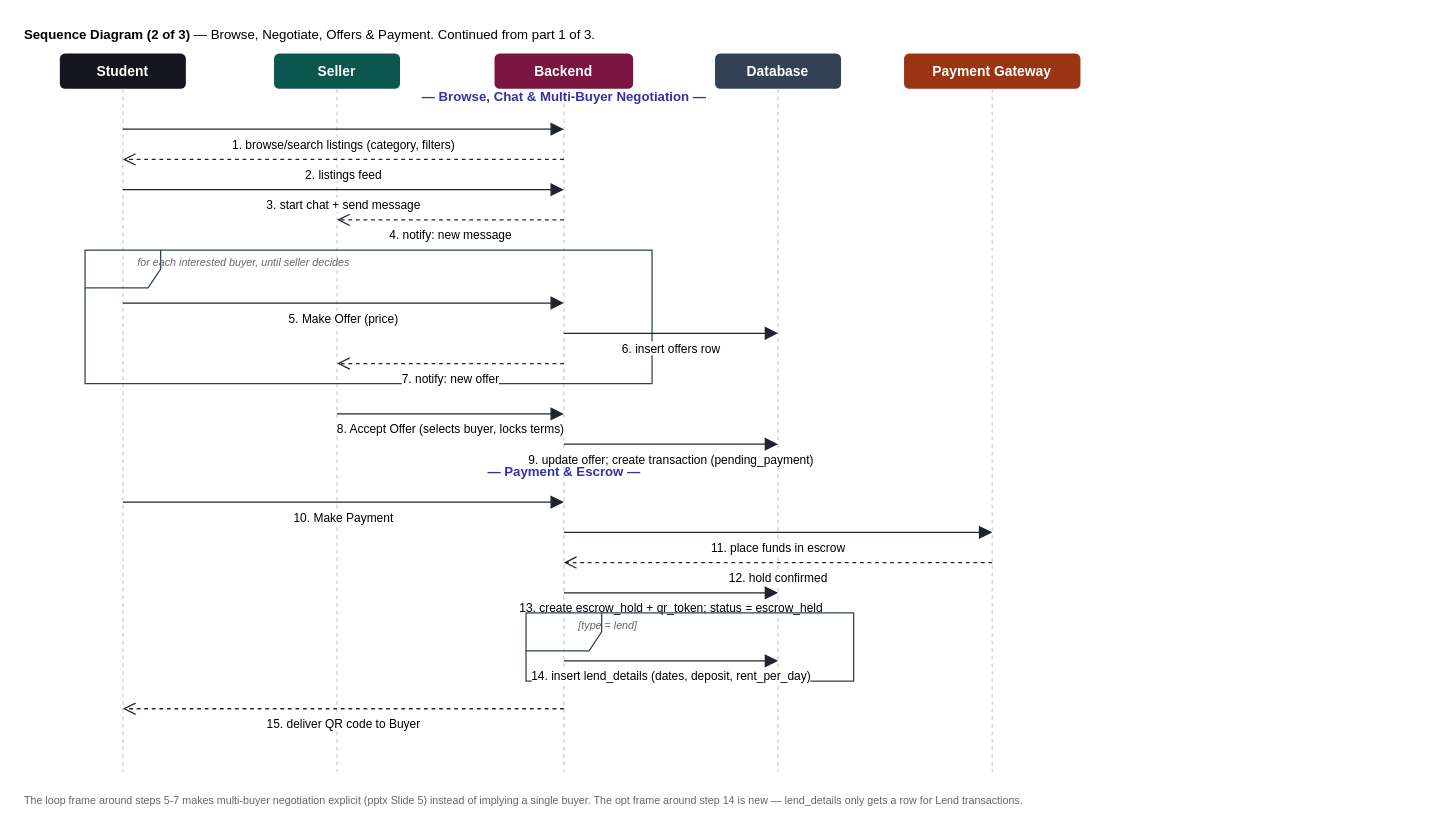
Image size: 1429x838. Some labels were removed from this diagram. The box of each missing label's shape, as (x1, y1, x2, y2) in pixels:
loop: (84, 249, 652, 384)
opt: (525, 612, 854, 681)
